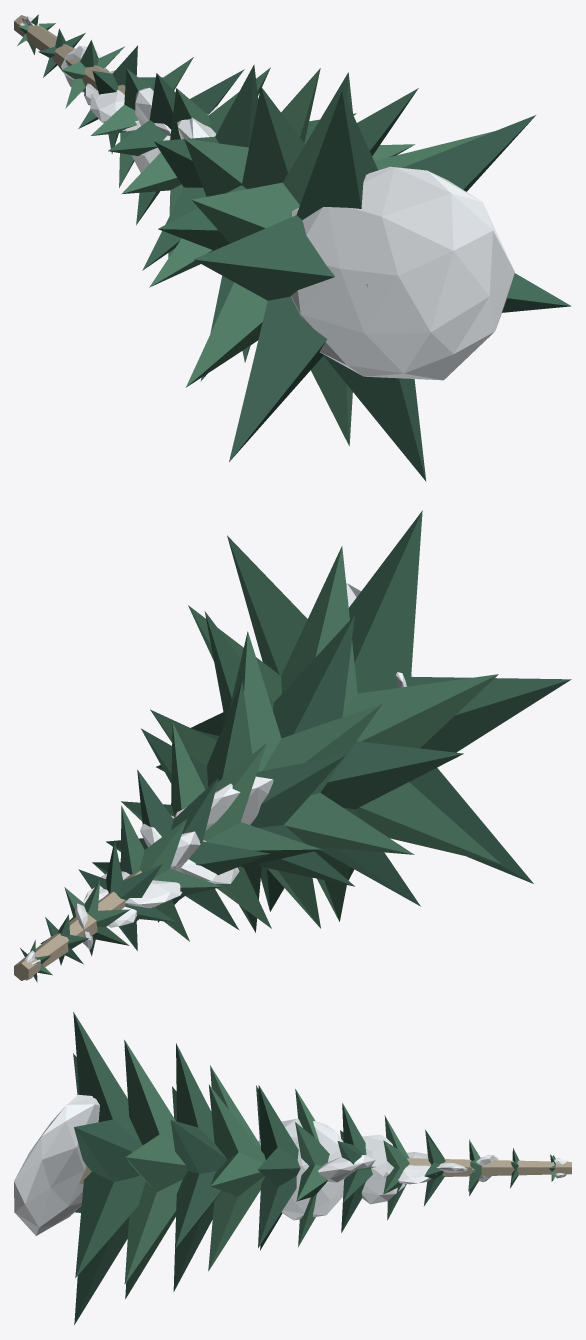
File: TreeConiferB5.fbx
3 views of the same model, one above another, from view 1: azimuth 30°, elevation 25°; view 2: azimuth 150°, elevation 25°; view 3: azimuth 270°, elevation 25° (orthographic). The views are drawn at different scales.
Parts seen in each view (by area): view 1: M_Tree_Pine_Dark, M_Tree_Snow, M_Tree_Pine_Mid, M_Tree_PaleWood; view 2: M_Tree_Pine_Dark, M_Tree_Pine_Mid, M_Tree_Snow, M_Tree_PaleWood; view 3: M_Tree_Pine_Dark, M_Tree_Pine_Mid, M_Tree_Snow, M_Tree_PaleWood.
Boxes of the visible parts, x1,y1,x2,y2 form: M_Tree_Pine_Dark: (38, 28, 571, 481); M_Tree_Snow: (20, 16, 514, 380); M_Tree_Pine_Mid: (17, 14, 494, 446); M_Tree_PaleWood: (14, 15, 367, 287); M_Tree_Pine_Dark: (40, 510, 571, 965); M_Tree_Pine_Mid: (20, 546, 501, 982); M_Tree_Snow: (24, 583, 412, 980); M_Tree_PaleWood: (14, 840, 206, 980); M_Tree_Pine_Dark: (73, 1012, 519, 1324); M_Tree_Pine_Mid: (124, 1040, 555, 1298); M_Tree_Snow: (14, 1094, 567, 1235); M_Tree_PaleWood: (79, 1158, 571, 1183).
Size of the model in its own units: 1897 by 1967 by 3486.
